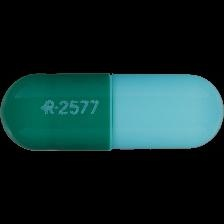35356-947: (0, 0, 224, 224)
